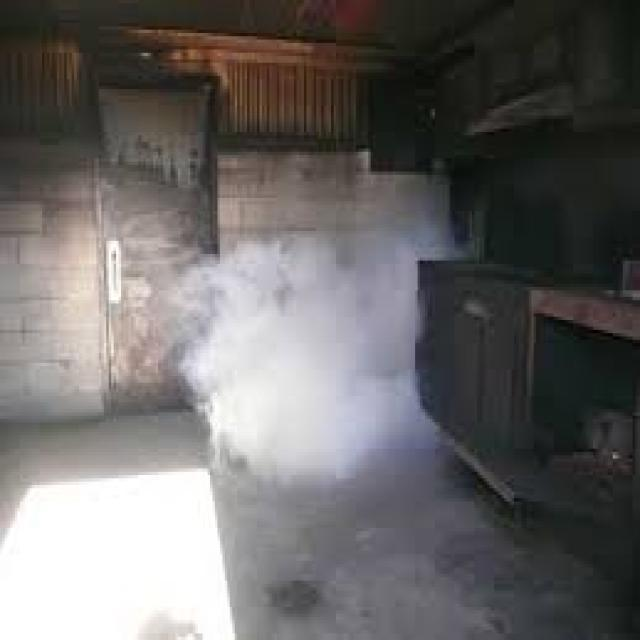Smoke: (168, 214, 486, 489)
